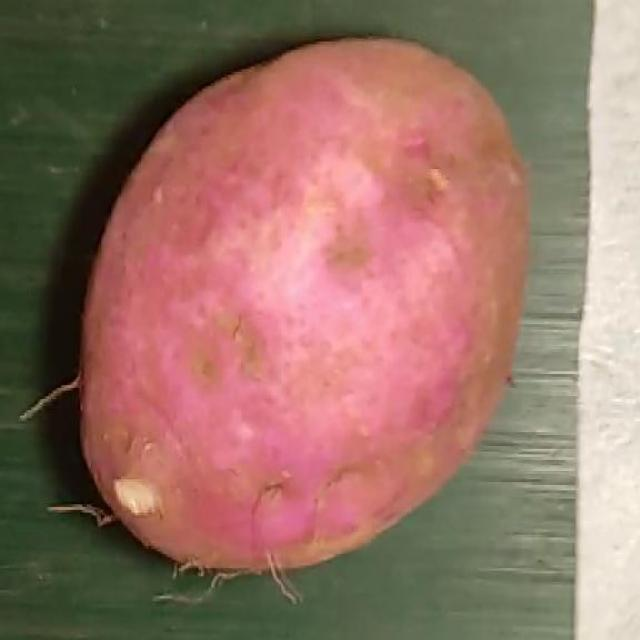Sweet Potato: (77, 37, 530, 578)
